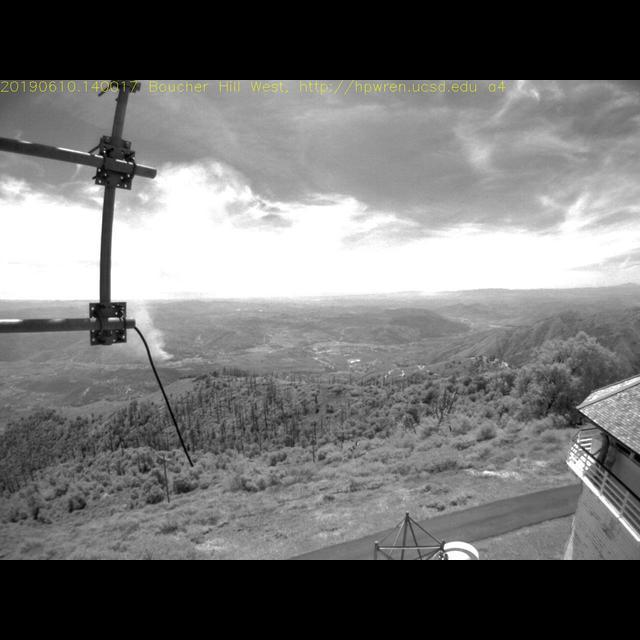Smoke: (122, 285, 175, 365)
